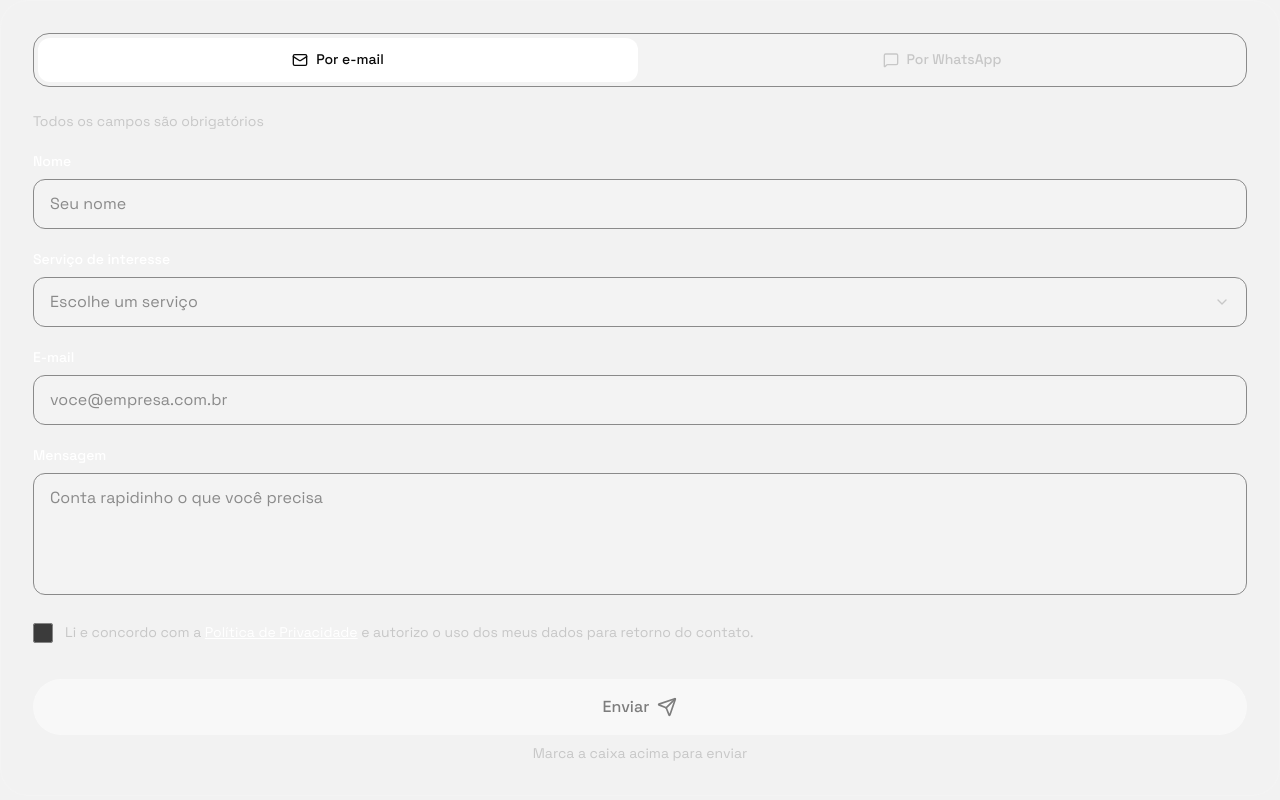
Test: ContactForm sending, success and error › shows Enviar, disabled until the consent is given
Check: the button "Enviar" is disabled, box [33,679,1247,735]
Click the checkbox: {"x": 43, "y": 633} [33,623,53,643]
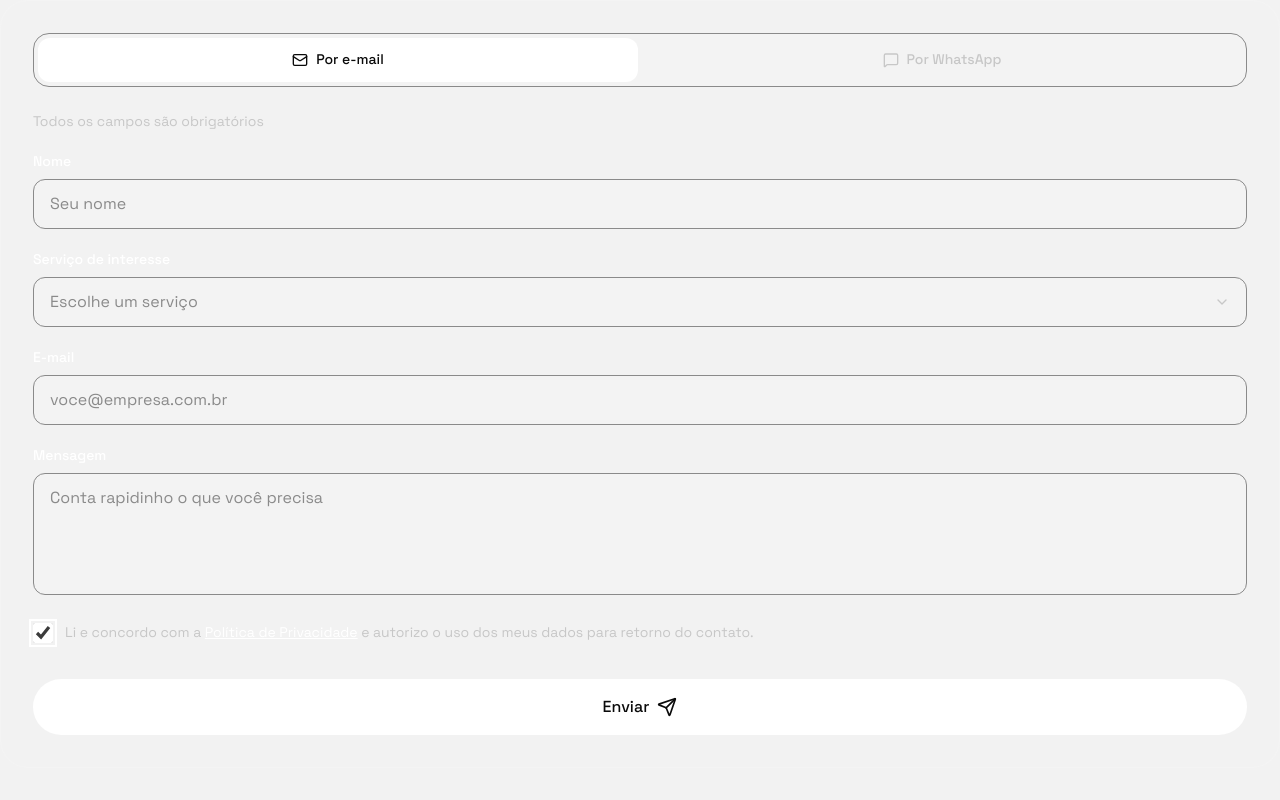
Check: the button "Enviar" is enabled, box [33,679,1247,735]
